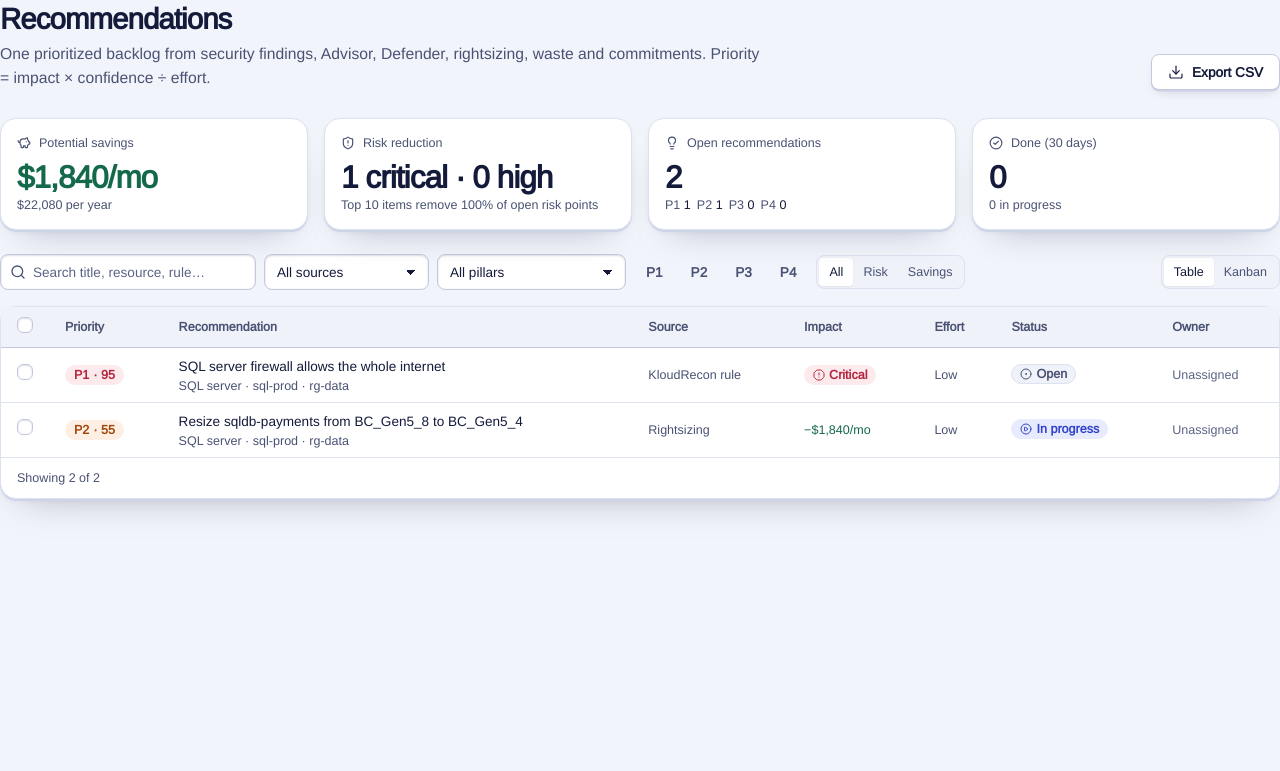
Test: RecommendationsPage › shows the savings and risk headline, the table and a ticket
Expected: the text "$22,080 per year" is shown, [17,196,112,213]
Expected: the text "$1,840/mo" is shown, [17,156,157,197]
Click the button "SQL server firewall allows the whole internet": click(397, 366) [179,356,616,376]
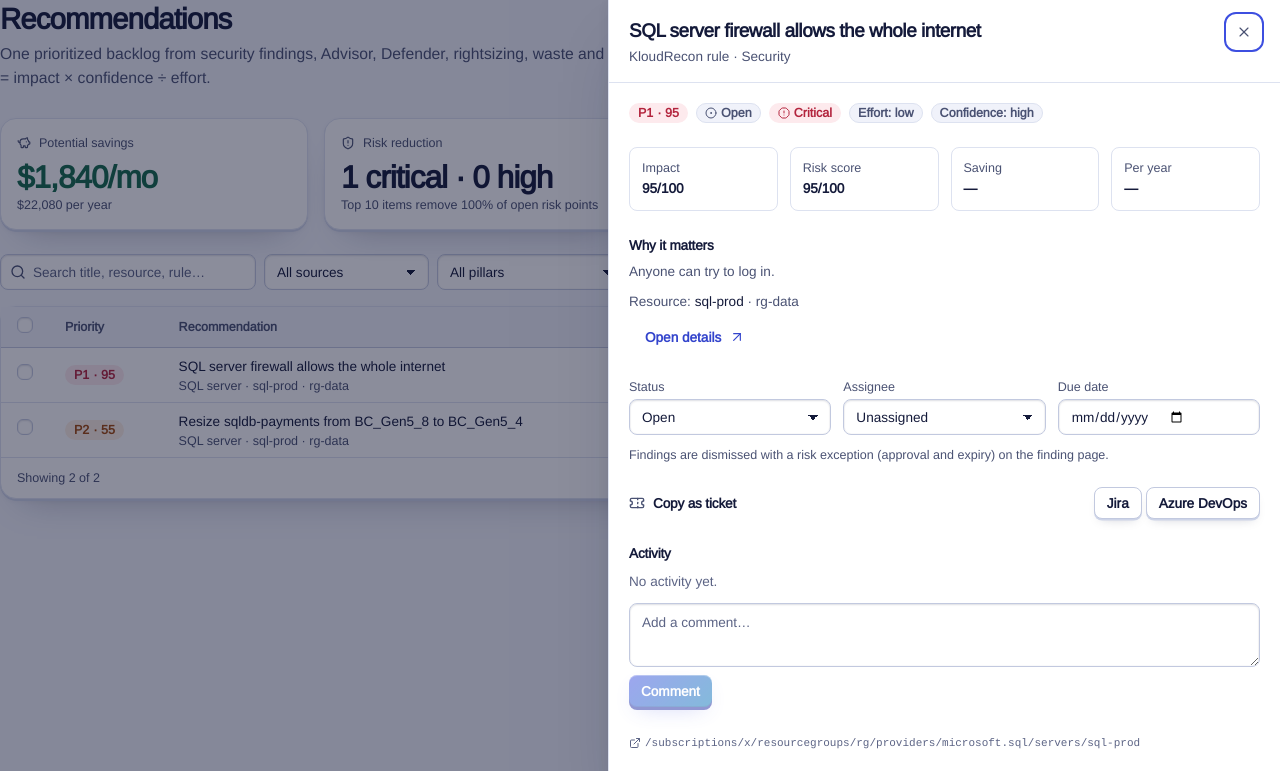
Click the button "Jira": click(1118, 503) [1094,487,1142,519]
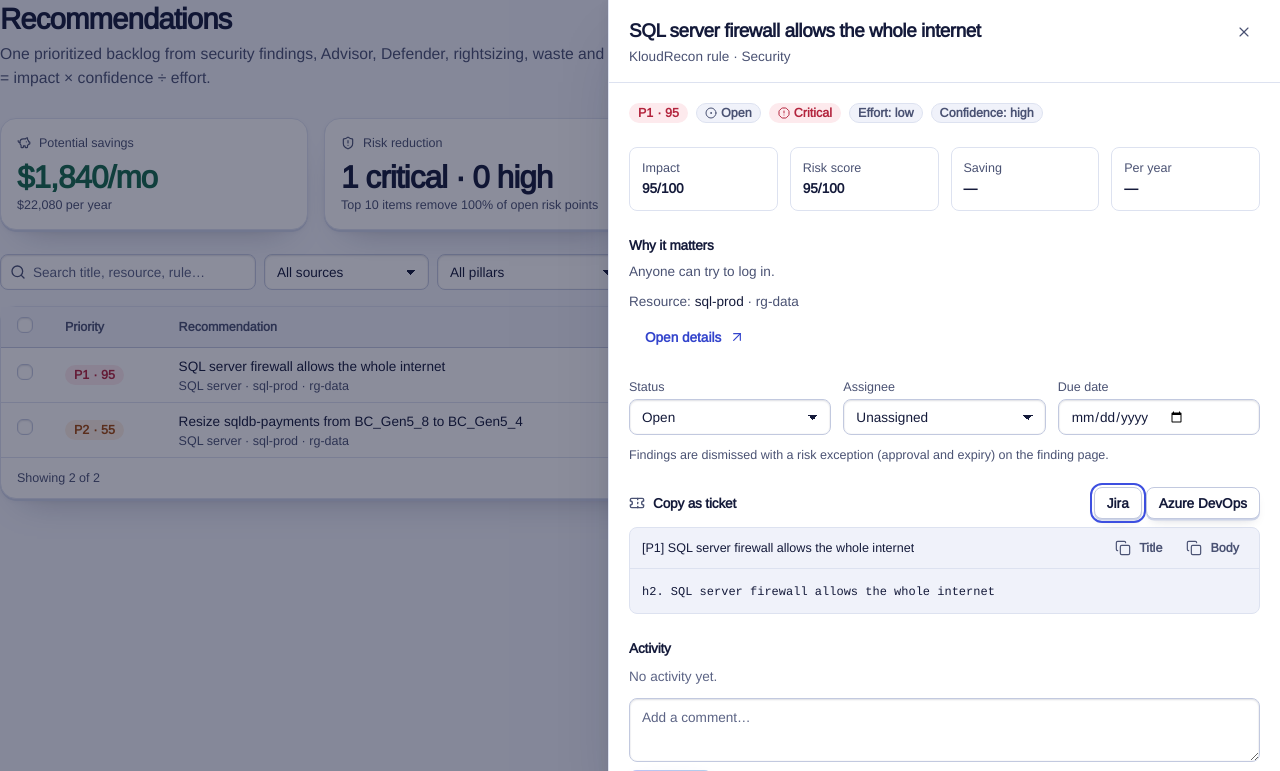
Now the text "h2. SQL server firewall allows the whole internet" is shown, box [642,583,995,599]
